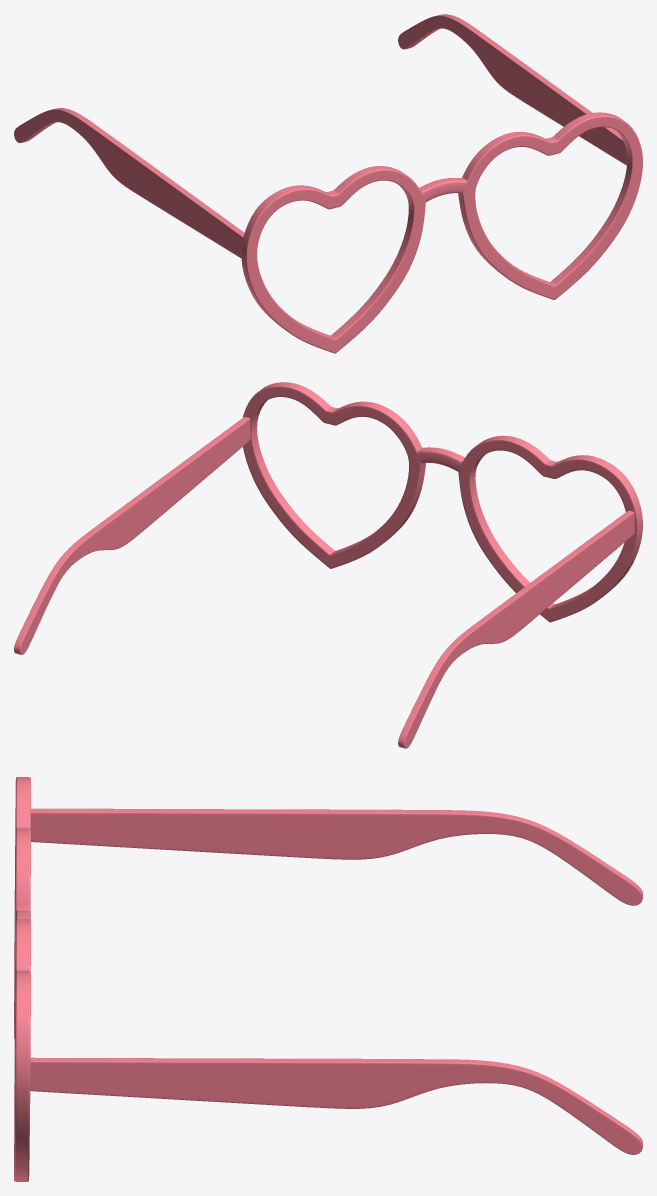
File: hearts.obj
3 views of the same model, one above another, from view 1: azimuth 30°, elevation 25°; view 2: azimuth 150°, elevation 25°; view 3: azimuth 270°, elevation 25° (orthographic). The views are drawn at different scales.
Visible parts, largest first — view 1: 17890_Heart_Glasses_v1_NEW; view 2: 17890_Heart_Glasses_v1_NEW; view 3: 17890_Heart_Glasses_v1_NEW.
Boxes of the visible parts, <box> form: 17890_Heart_Glasses_v1_NEW: <box>14,14,642,353</box>; 17890_Heart_Glasses_v1_NEW: <box>14,382,642,748</box>; 17890_Heart_Glasses_v1_NEW: <box>14,777,642,1181</box>.
Bounding box in the file's own units: 1.34 × 0.5584 × 1.39.
